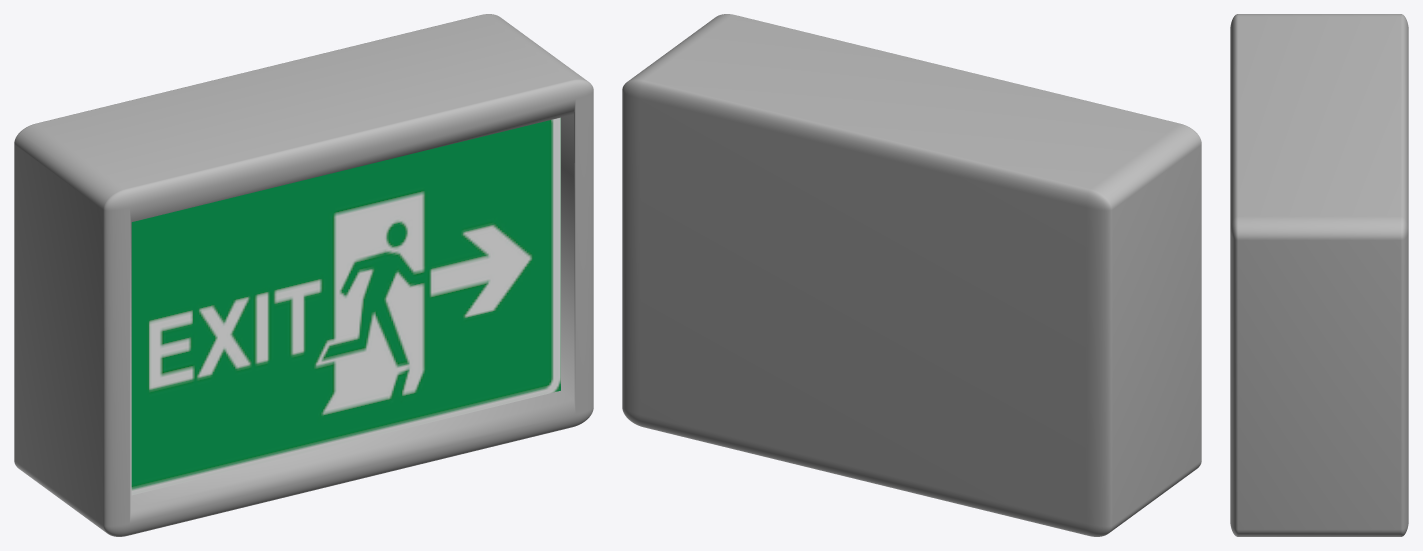
File: ExitSign.fbx
3 renders of one model, left to right at view 1: azimuth 30°, elevation 25°; view 2: azimuth 150°, elevation 25°; view 3: azimuth 270°, elevation 25°, orthographic. The views are drawn at different scales.
Parts seen in each view (by area): view 1: Exit_Frame_0, Exit_Flex_0; view 2: Exit_Frame_0; view 3: Exit_Frame_0.
Boxes of the visible parts, x1,y1,x2,y2 form: Exit_Frame_0: (14, 14, 593, 536); Exit_Flex_0: (131, 117, 560, 495); Exit_Frame_0: (622, 14, 1201, 536); Exit_Frame_0: (1230, 14, 1408, 536).
Size of the model in its own units: 26.61 by 18 by 9.17.
Materials: 2 (1 with a texture image).
